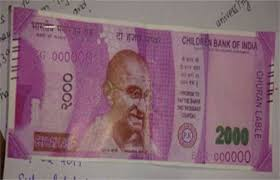twoThousand: (35, 34, 260, 154)
